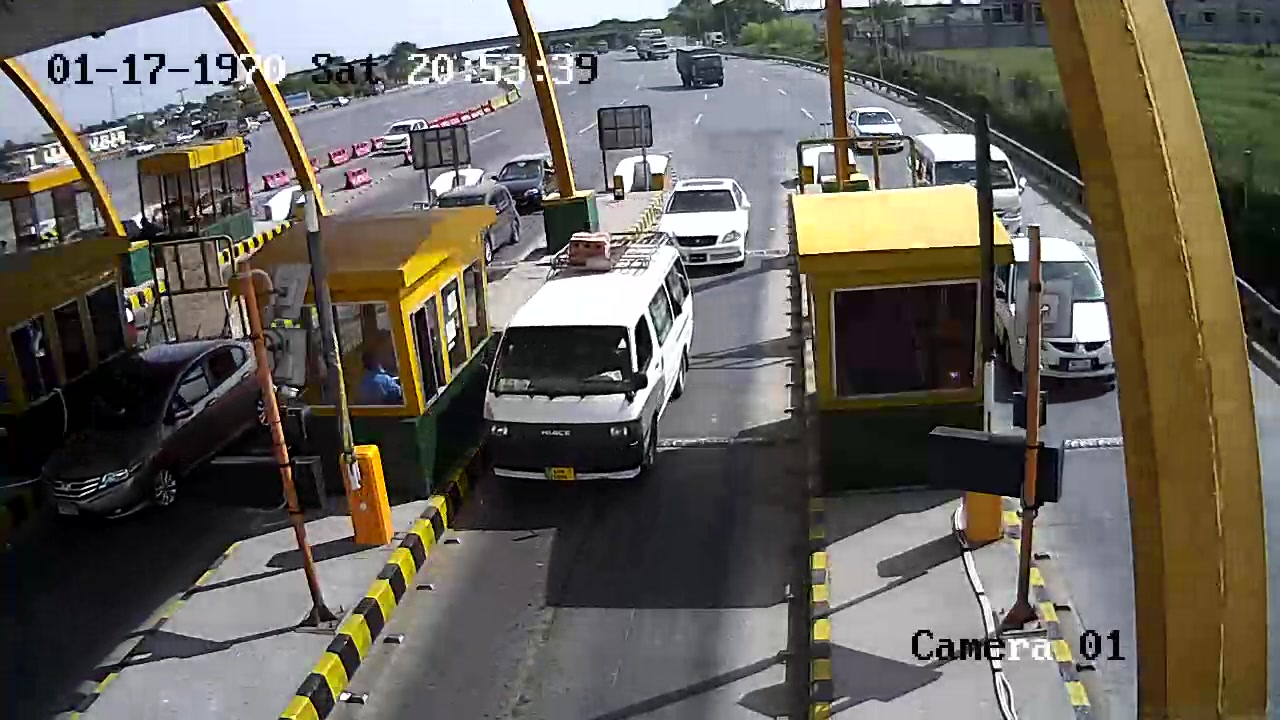F3: (477, 232, 699, 493)
